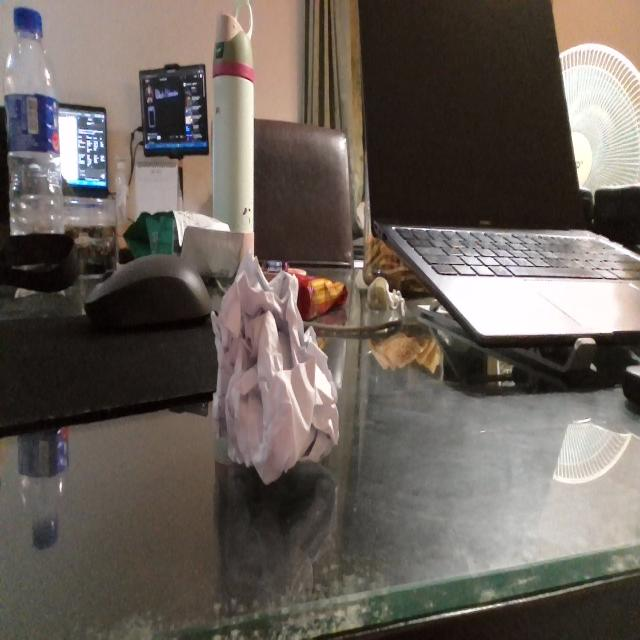crumpled_paper: (209, 248, 342, 488)
